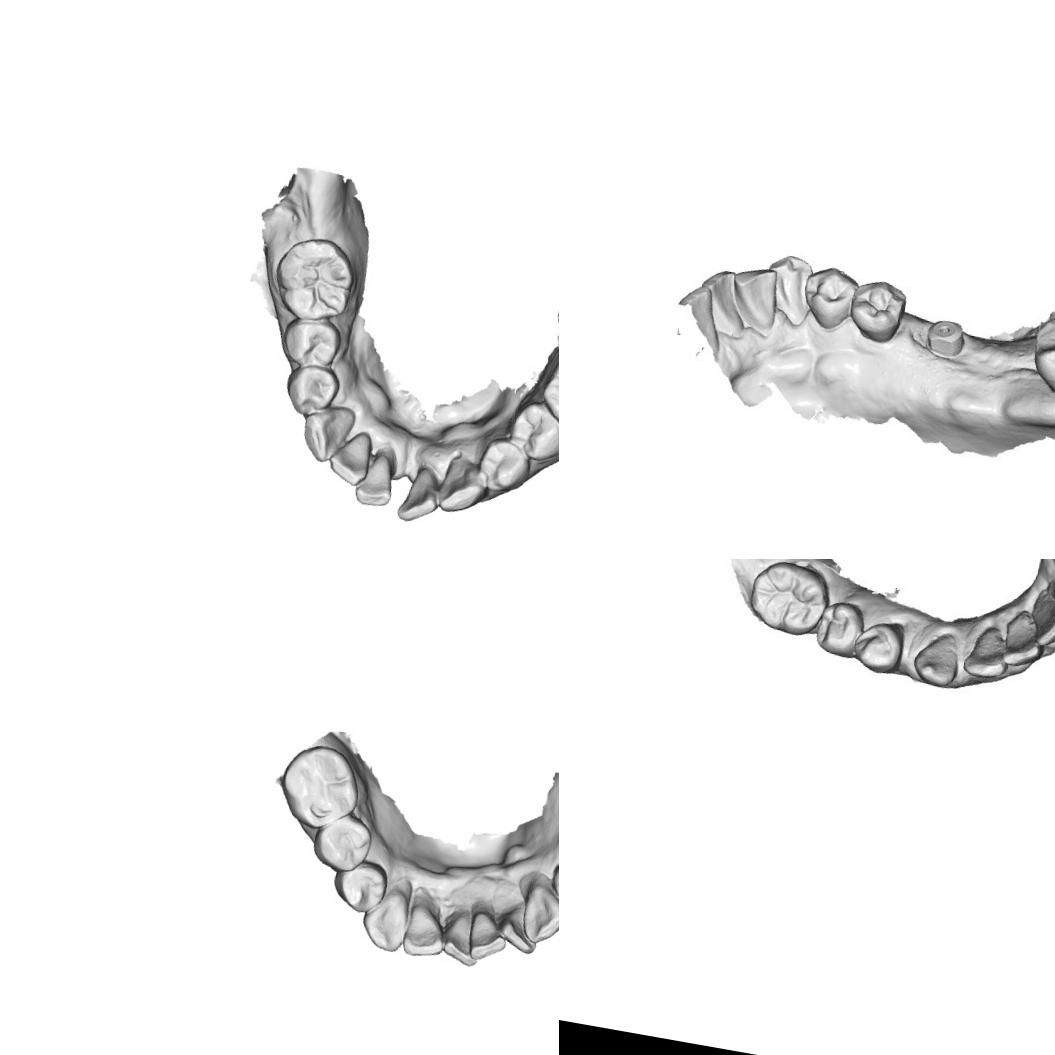canine: (761, 248, 818, 328), (296, 398, 359, 468), (356, 882, 412, 956), (436, 452, 492, 520), (908, 627, 964, 689), (515, 880, 559, 951)
implant: (921, 312, 973, 365)
incisor: (692, 263, 754, 344), (724, 261, 786, 339), (398, 896, 451, 962), (324, 424, 375, 490), (998, 606, 1049, 671), (438, 901, 486, 970), (960, 622, 1014, 683), (464, 900, 512, 967), (393, 462, 443, 526), (352, 448, 398, 510), (496, 900, 542, 957), (1025, 589, 1055, 650), (1042, 571, 1055, 626)
molar: (270, 736, 367, 836), (267, 229, 362, 328), (742, 559, 833, 641), (1020, 297, 1055, 407), (536, 338, 559, 440)
premolar: (844, 273, 912, 346), (306, 808, 376, 878), (797, 260, 859, 336), (326, 854, 391, 920), (276, 314, 344, 373), (502, 396, 559, 466), (474, 434, 535, 496), (280, 360, 342, 420), (848, 615, 906, 677), (812, 596, 868, 660), (545, 855, 559, 919)
